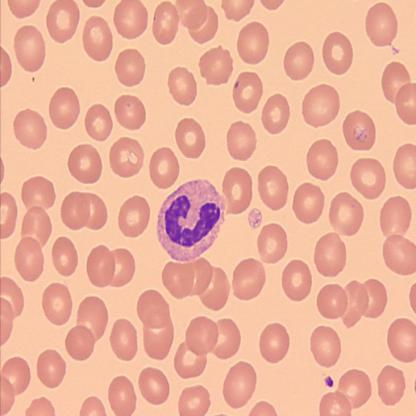Band Neutrophil: (154, 177, 229, 265)
